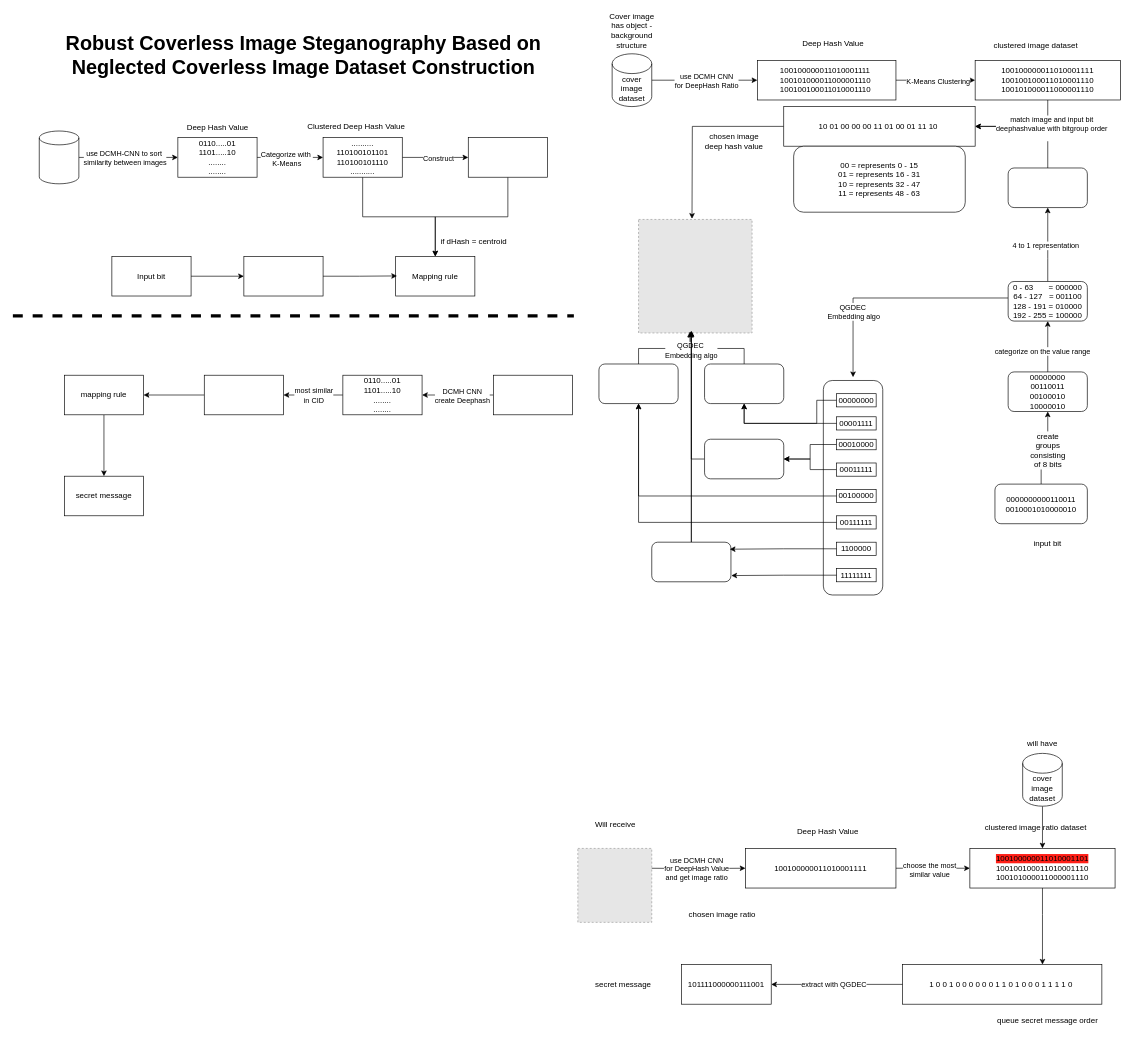
This 1140x1041 diagram has some shape labels left out. Grey dashed boxes stand in for pictures. Here are the shapes that lost their labels. From the top down, the centre of each, then its label:
At (x=59, y=157): "Original image dataset".
At (x=507, y=157): "Coverless Image Dataset".
At (x=1047, y=187): "The order of bits group".
At (x=283, y=276): "devided input bit".
At (x=243, y=395): "image from coverless image dataset".
At (x=533, y=395): "Chosen image".
At (x=638, y=383): "input into 2 pixels with 0.5 avg_diff <difference < 1.3 avg_diff".
At (x=744, y=383): "input into 2 pixels with difference < 0.3 avg_diff".
At (x=744, y=459): "input into 2 pixels with 0.3 avg_diff <difference < 0.5 avg_diff".
At (x=691, y=562): "input into 2 pixels with difference > 1.3 avg_diff".
